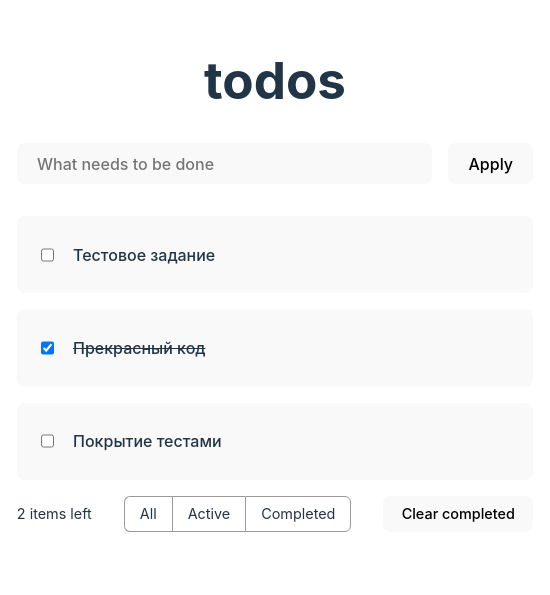
Test case: adding new task
Type "new task" into the field with placeholder "What needs to be done". click: (225, 164)
box: x1=17 y1=143 x2=432 y2=184
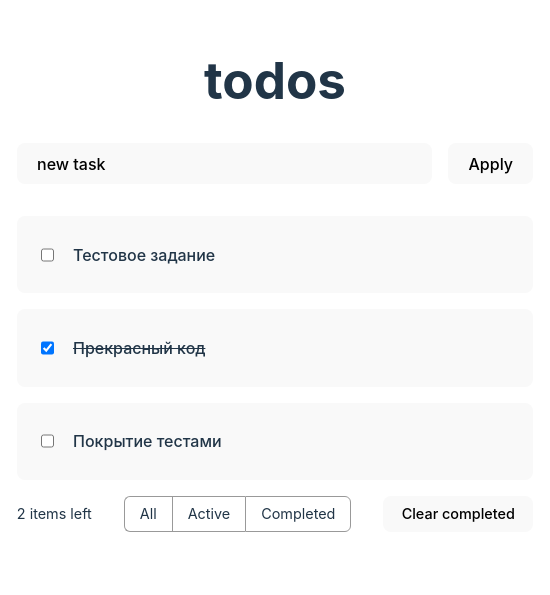
Click the button "Apply". click: (491, 164)
box: x1=448 y1=143 x2=533 y2=184
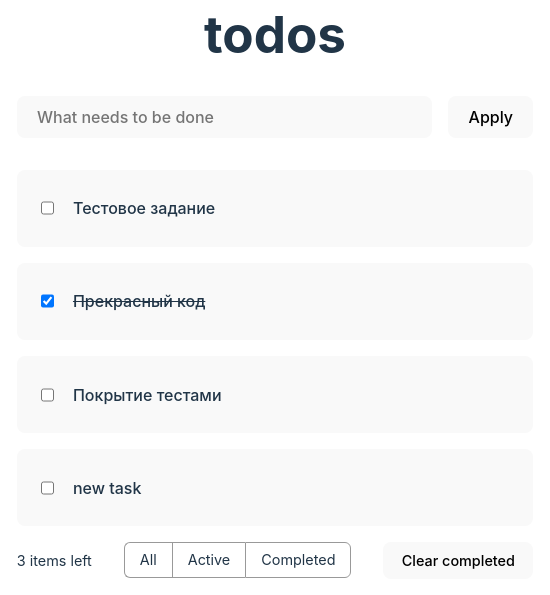
Result: the text "new task" is shown at x1=73 y1=476 x2=142 y2=500
